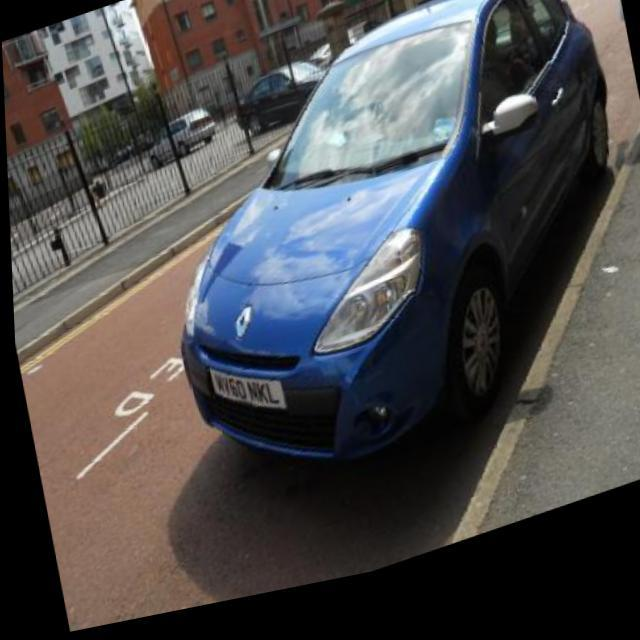license_plate: (204, 354, 285, 446)
